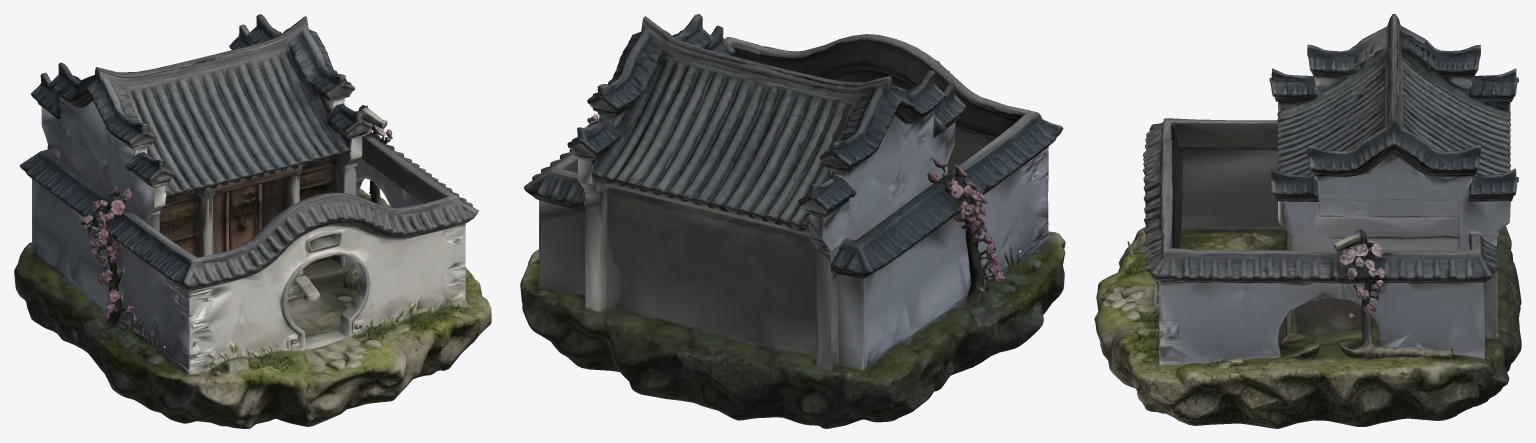
The model's file is peach_house.glb.
3 views of the same model, side by side, from view 1: azimuth 30°, elevation 25°; view 2: azimuth 150°, elevation 25°; view 3: azimuth 270°, elevation 25° (orthographic). The views are drawn at different scales.
Visible parts, largest first — view 1: tripo_node_19619bd7-97b0-4057-bfdd-2183a2270d07; view 2: tripo_node_19619bd7-97b0-4057-bfdd-2183a2270d07; view 3: tripo_node_19619bd7-97b0-4057-bfdd-2183a2270d07.
Boxes of the visible parts, x1,y1,x2,y2 form: tripo_node_19619bd7-97b0-4057-bfdd-2183a2270d07: (14,14,491,428); tripo_node_19619bd7-97b0-4057-bfdd-2183a2270d07: (520,14,1065,428); tripo_node_19619bd7-97b0-4057-bfdd-2183a2270d07: (1094,14,1521,428).
Size of the model in its own units: 0.9511 by 0.7378 by 0.979.
1 material, 1 textured.
